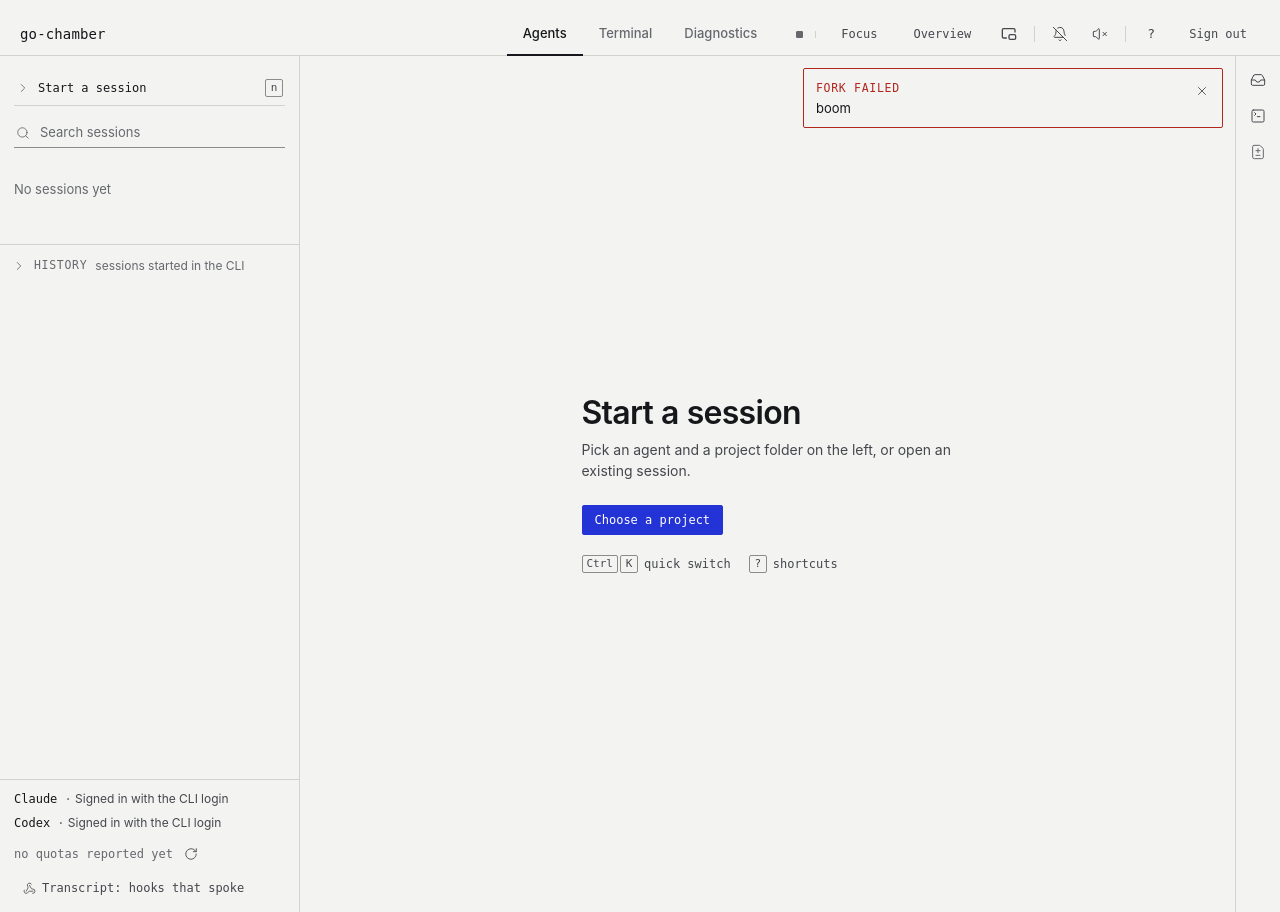
Test: App › dismisses the error toast
The width and height of the screenshot is (1280, 912).
Expected: the message named "online" is shown, [796,30,816,38]
Expected: the text "boom" is shown, [816,100,851,116]
Click the button named "Dismiss" at (1202, 91), box [1188,77,1216,105]
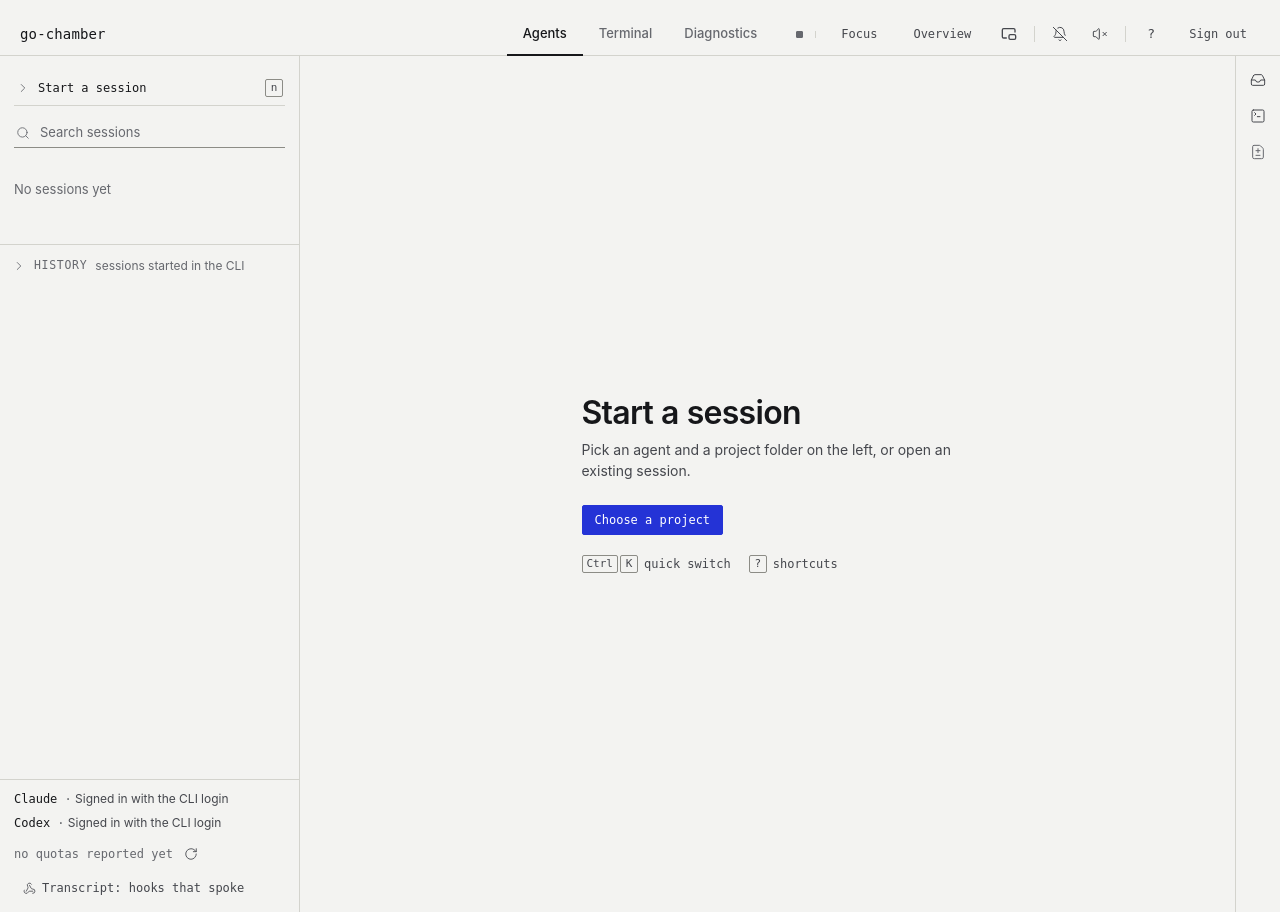
Result: the text "boom" is gone
